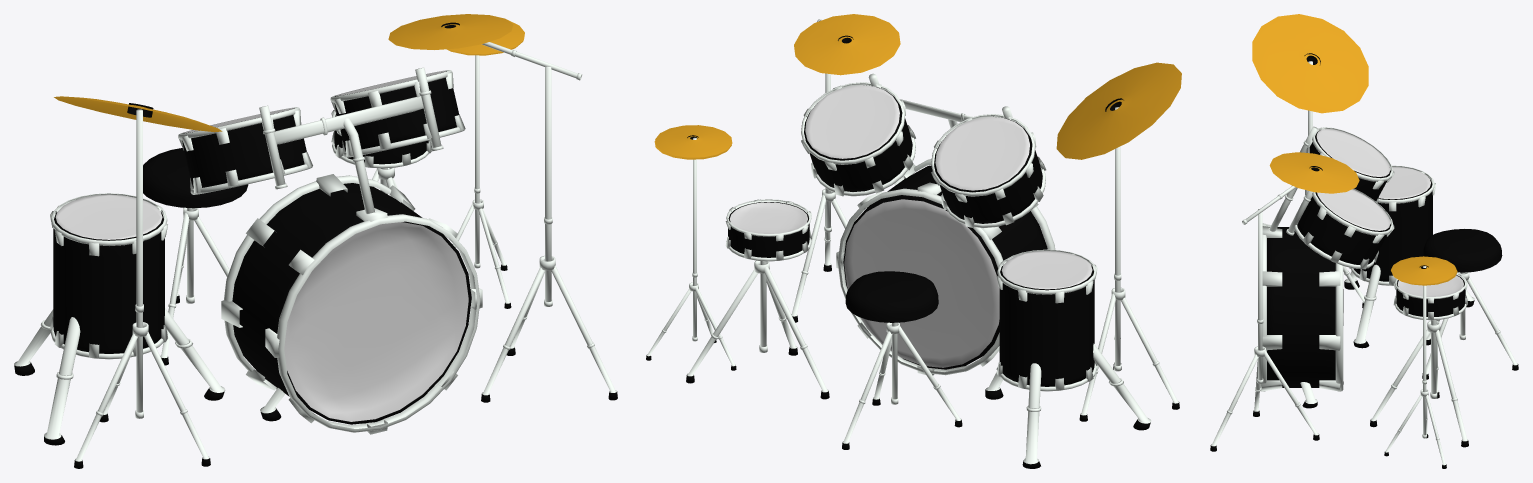
The model's file is DrumSet.fbx.
3 views of the same model, side by side, from view 1: azimuth 30°, elevation 25°; view 2: azimuth 150°, elevation 25°; view 3: azimuth 270°, elevation 25° (orthographic). The views are drawn at different scales.
Visible parts, largest first — view 1: DrumSet; view 2: DrumSet; view 3: DrumSet.
Boxes of the visible parts, x1,y1,x2,y2 form: DrumSet: (14,14,617,468); DrumSet: (646,14,1181,468); DrumSet: (1210,14,1518,468).
Size of the model in its own units: 22419 by 15564 by 15624.
